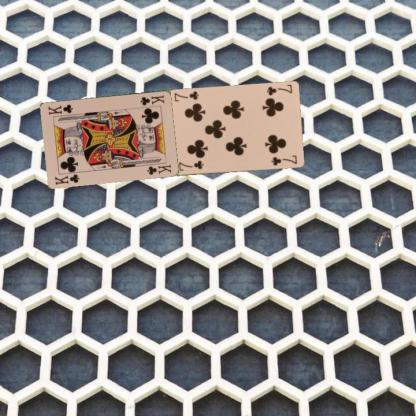7c: (263, 82, 293, 97), (176, 158, 205, 172)
Kc: (137, 92, 166, 107), (52, 171, 81, 186)
